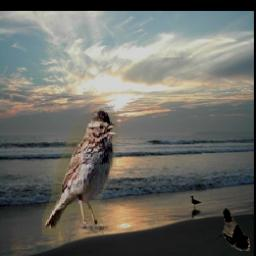Crow: (223, 208, 251, 252)
Sparrow: (43, 104, 119, 235)
